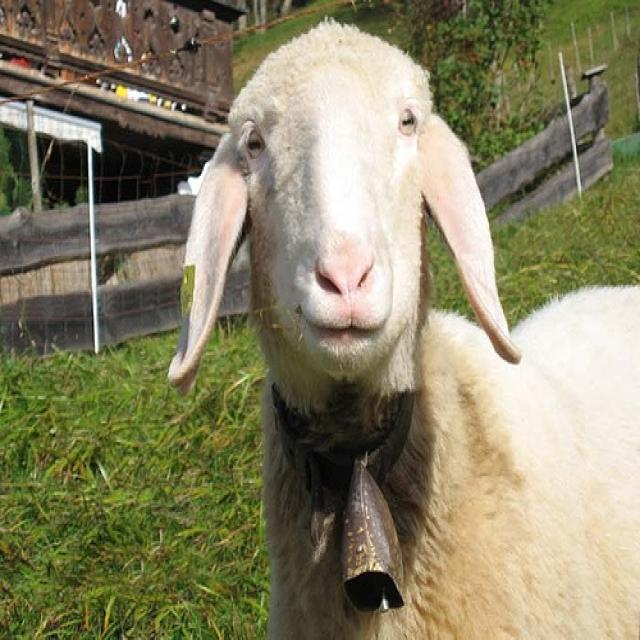sheep: (164, 19, 639, 636)
